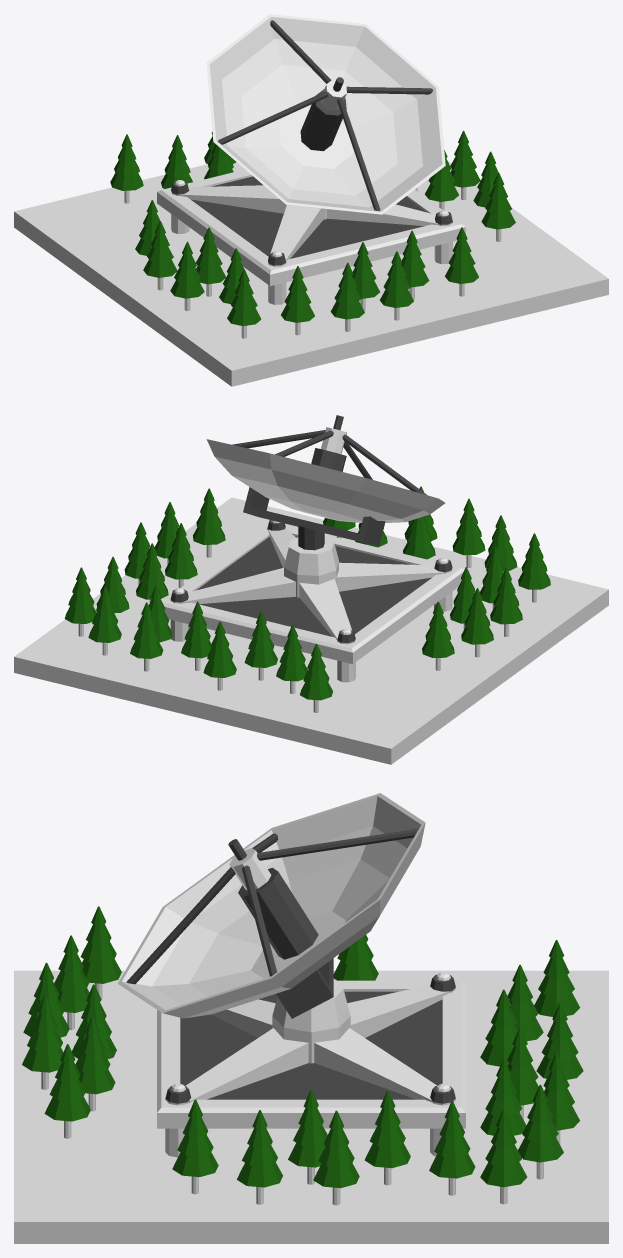
The model's file is satellite dish.fbx.
3 renders of one model, top to bottom at view 1: azimuth 30°, elevation 25°; view 2: azimuth 150°, elevation 25°; view 3: azimuth 270°, elevation 25°, orthographic. The views are drawn at different scales.
Visible parts, largest first — view 1: Cylinder.001, Cube, Cylinder.016, Cylinder.020, Cylinder.040, Cylinder.038, Cylinder.023, Cylinder.018, Cylinder.035, Cylinder.011, Cylinder.037, Cylinder.015 (+9 smaller); view 2: Cube, Cylinder.001, Cylinder.020, Cylinder.016, Cylinder.035, Cylinder.022, Cylinder.007, Cylinder.011, Cylinder.044, Cylinder.032, Cylinder.023, Cylinder.018 (+14 smaller); view 3: Cylinder.001, Cube, Cylinder.006, Cylinder.007, Cylinder.014, Cylinder.010, Cylinder.013, Cylinder.012, Cylinder.038, Cylinder.011, Cylinder.040, Cylinder.018 (+13 smaller).
Part boxes in pixels (left/top/right/bottom): Cylinder.001: left=157, top=14, right=465, bottom=304; Cube: left=14, top=161, right=608, bottom=386; Cylinder.016: left=143, top=221, right=177, bottom=290; Cylinder.020: left=170, top=241, right=204, bottom=311; Cylinder.040: left=379, top=251, right=413, bottom=320; Cylinder.038: left=445, top=227, right=478, bottom=296; Cylinder.023: left=110, top=134, right=143, bottom=203; Cylinder.018: left=227, top=269, right=261, bottom=338; Cylinder.035: left=330, top=262, right=364, bottom=331; Cylinder.011: left=481, top=172, right=515, bottom=241; Cylinder.037: left=281, top=266, right=314, bottom=335; Cylinder.015: left=196, top=227, right=225, bottom=296; Cube: left=14, top=497, right=608, bottom=764; Cylinder.001: left=162, top=415, right=464, bottom=682; Cylinder.020: left=490, top=567, right=522, bottom=636; Cylinder.016: left=461, top=588, right=493, bottom=657; Cylinder.035: left=452, top=498, right=485, bottom=567; Cylinder.022: left=244, top=611, right=277, bottom=680; Cylinder.007: left=88, top=586, right=121, bottom=655; Cylinder.011: left=193, top=488, right=225, bottom=557; Cylinder.044: left=203, top=621, right=236, bottom=690; Cylinder.032: left=130, top=602, right=163, bottom=671; Cylinder.023: left=300, top=643, right=332, bottom=712; Cylinder.018: left=518, top=533, right=550, bottom=602; Cylinder.001: left=117, top=793, right=465, bottom=1157; Cube: left=14, top=970, right=608, bottom=1243; Cylinder.006: left=480, top=1109, right=527, bottom=1204; Cylinder.007: left=518, top=1084, right=563, bottom=1179; Cylinder.014: left=313, top=1110, right=359, bottom=1205; Cylinder.010: left=237, top=1110, right=282, bottom=1204; Cylinder.013: left=364, top=1090, right=410, bottom=1185; Cylinder.012: left=429, top=1101, right=475, bottom=1195; Cylinder.038: left=44, top=1044, right=90, bottom=1138; Cylinder.011: left=172, top=1099, right=218, bottom=1194; Cylinder.040: left=22, top=995, right=63, bottom=1089; Cylinder.018: left=80, top=906, right=121, bottom=1000.
Bounding box in the file's own units: 1818 × 997 × 1818.
